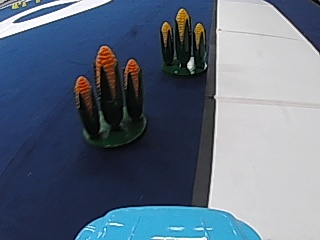corn: (72, 42, 150, 148), (156, 5, 210, 77)
